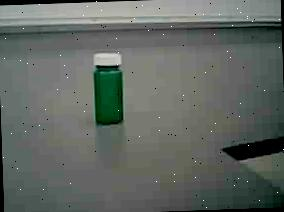Bottle C: (82, 43, 134, 134)
